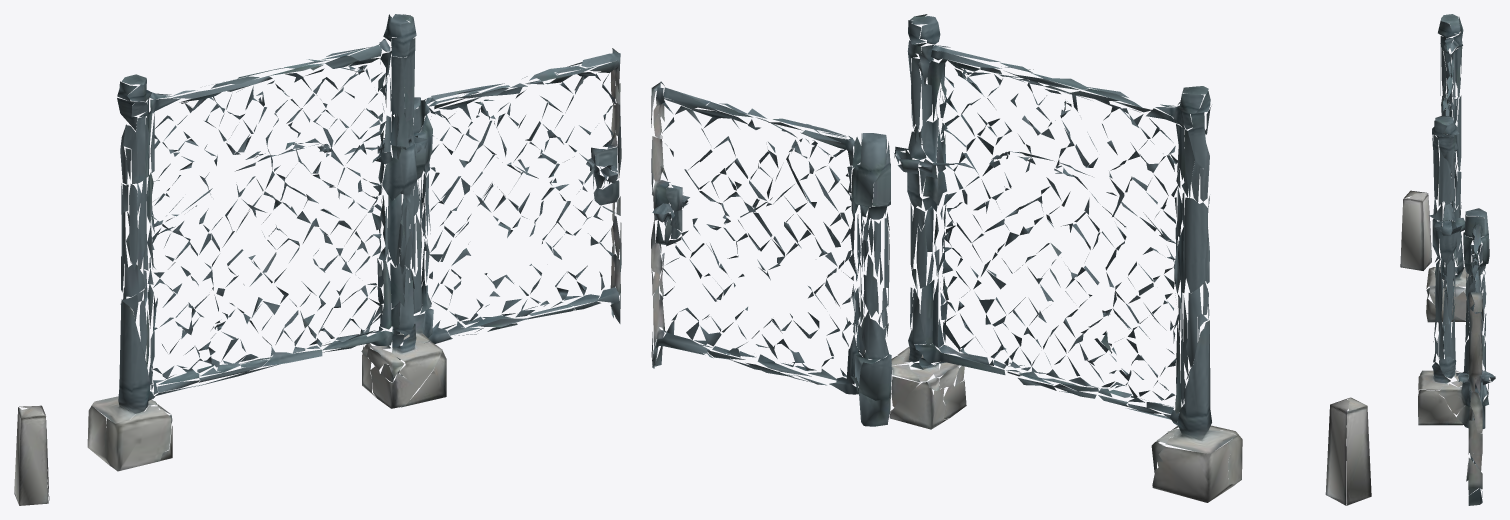
File: infra16.glb
3 views of the same model, side by side, from view 1: azimuth 30°, elevation 25°; view 2: azimuth 150°, elevation 25°; view 3: azimuth 270°, elevation 25° (orthographic). The views are drawn at different scales.
Visible parts, largest first — view 1: tripo_node_87e79324-2eb3-4c58-82cf-85062a175e65; view 2: tripo_node_87e79324-2eb3-4c58-82cf-85062a175e65; view 3: tripo_node_87e79324-2eb3-4c58-82cf-85062a175e65.
Part boxes in pixels (box(x1,y1,x2,y2)): tripo_node_87e79324-2eb3-4c58-82cf-85062a175e65: box(14, 14, 621, 505); tripo_node_87e79324-2eb3-4c58-82cf-85062a175e65: box(651, 14, 1371, 505); tripo_node_87e79324-2eb3-4c58-82cf-85062a175e65: box(1400, 14, 1495, 505).
Bounding box in the file's own units: 1 × 0.5617 × 0.1632.
1 material, 1 textured.
